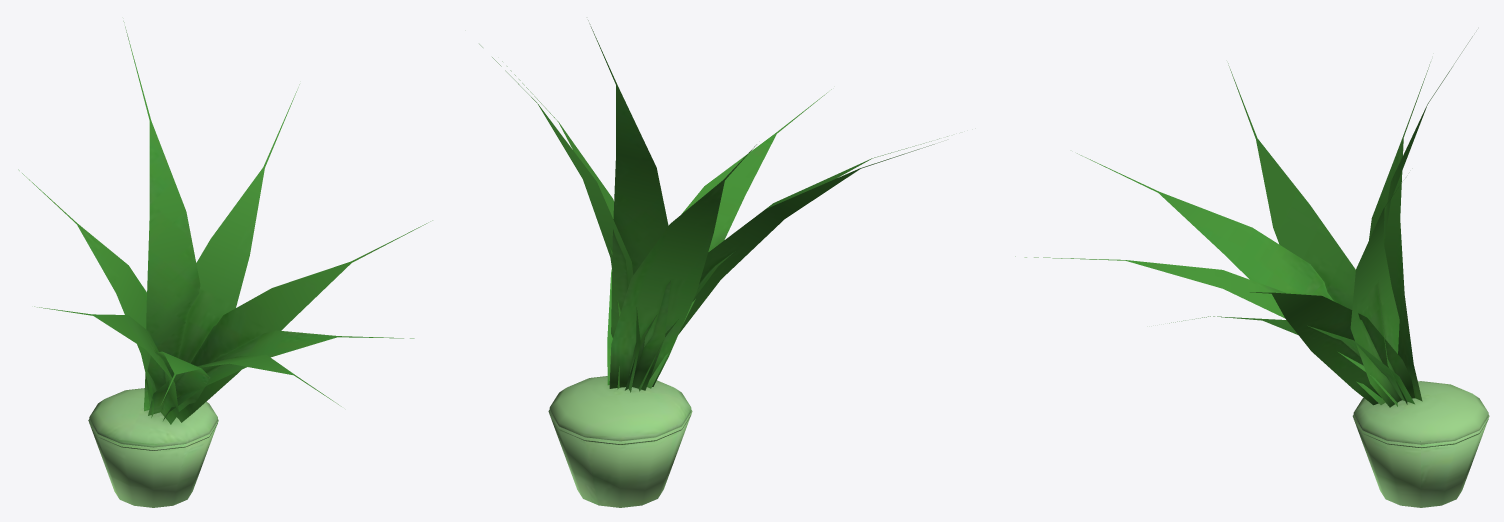
The model's file is crop_wasabi.glb.
The picture shows the model from 3 angles, left to right: view 1: azimuth 30°, elevation 25°; view 2: azimuth 150°, elevation 25°; view 3: azimuth 270°, elevation 25°; orthographic projection. The views are drawn at different scales.
Parts seen in each view (by area): view 1: crop_wasabi, fruit; view 2: crop_wasabi, fruit; view 3: crop_wasabi, fruit.
Part boxes in pixels (left/top/right/bottom): crop_wasabi: left=18, top=21, right=432, bottom=424; fruit: left=88, top=388, right=218, bottom=507; crop_wasabi: left=479, top=20, right=947, bottom=392; fruit: left=548, top=376, right=692, bottom=507; crop_wasabi: left=1015, top=36, right=1472, bottom=407; fruit: left=1352, top=381, right=1489, bottom=507.
Size of the model in its own units: 0.3673 by 0.3837 by 0.3483.
1 material, 1 textured.
